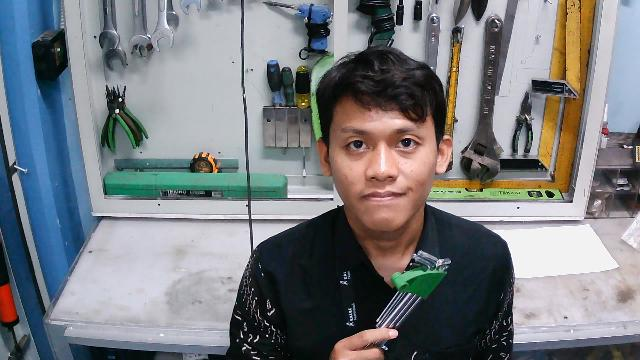kunci_l_bintang: (359, 247, 459, 350)
